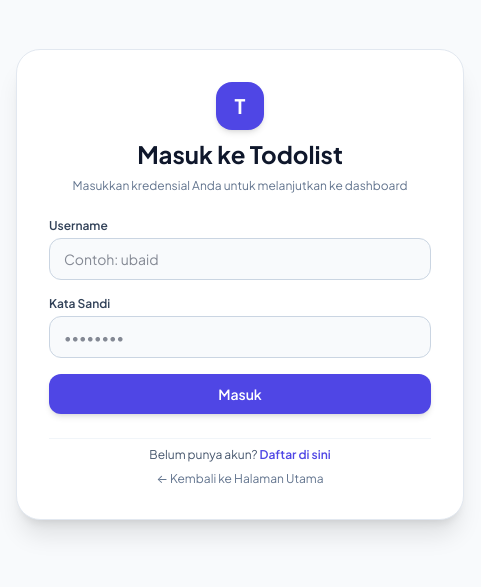
AuthPage Component › handles login error gracefully
Step 1. Type "johndoe" into the field with id "login-username" → [240, 258], box [49,238,431,280]
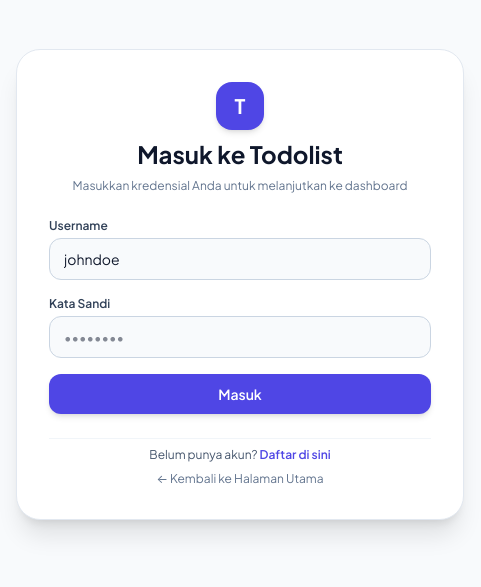
Step 2. Type "wrongpass" into the password field with id "login-password" → [240, 336], box [49,316,431,358]
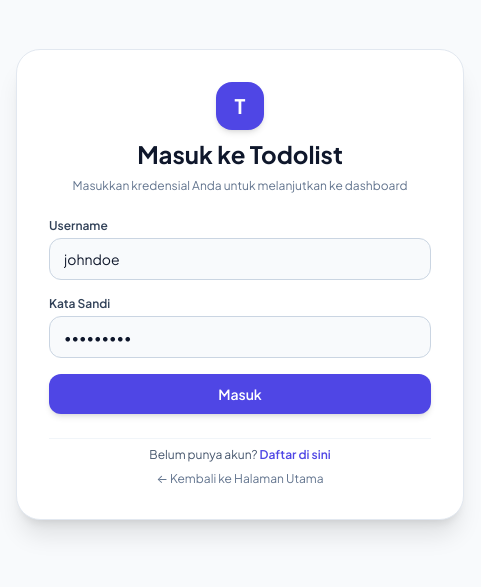
Step 3. Click the button with id "login-submit" → [240, 394], box [49,374,431,414]
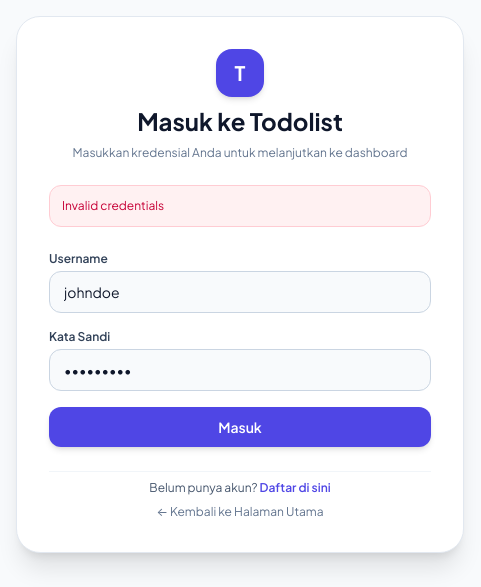
Now the text with test id "auth-error-msg" reads "Invalid credentials", box [62,198,164,212]
